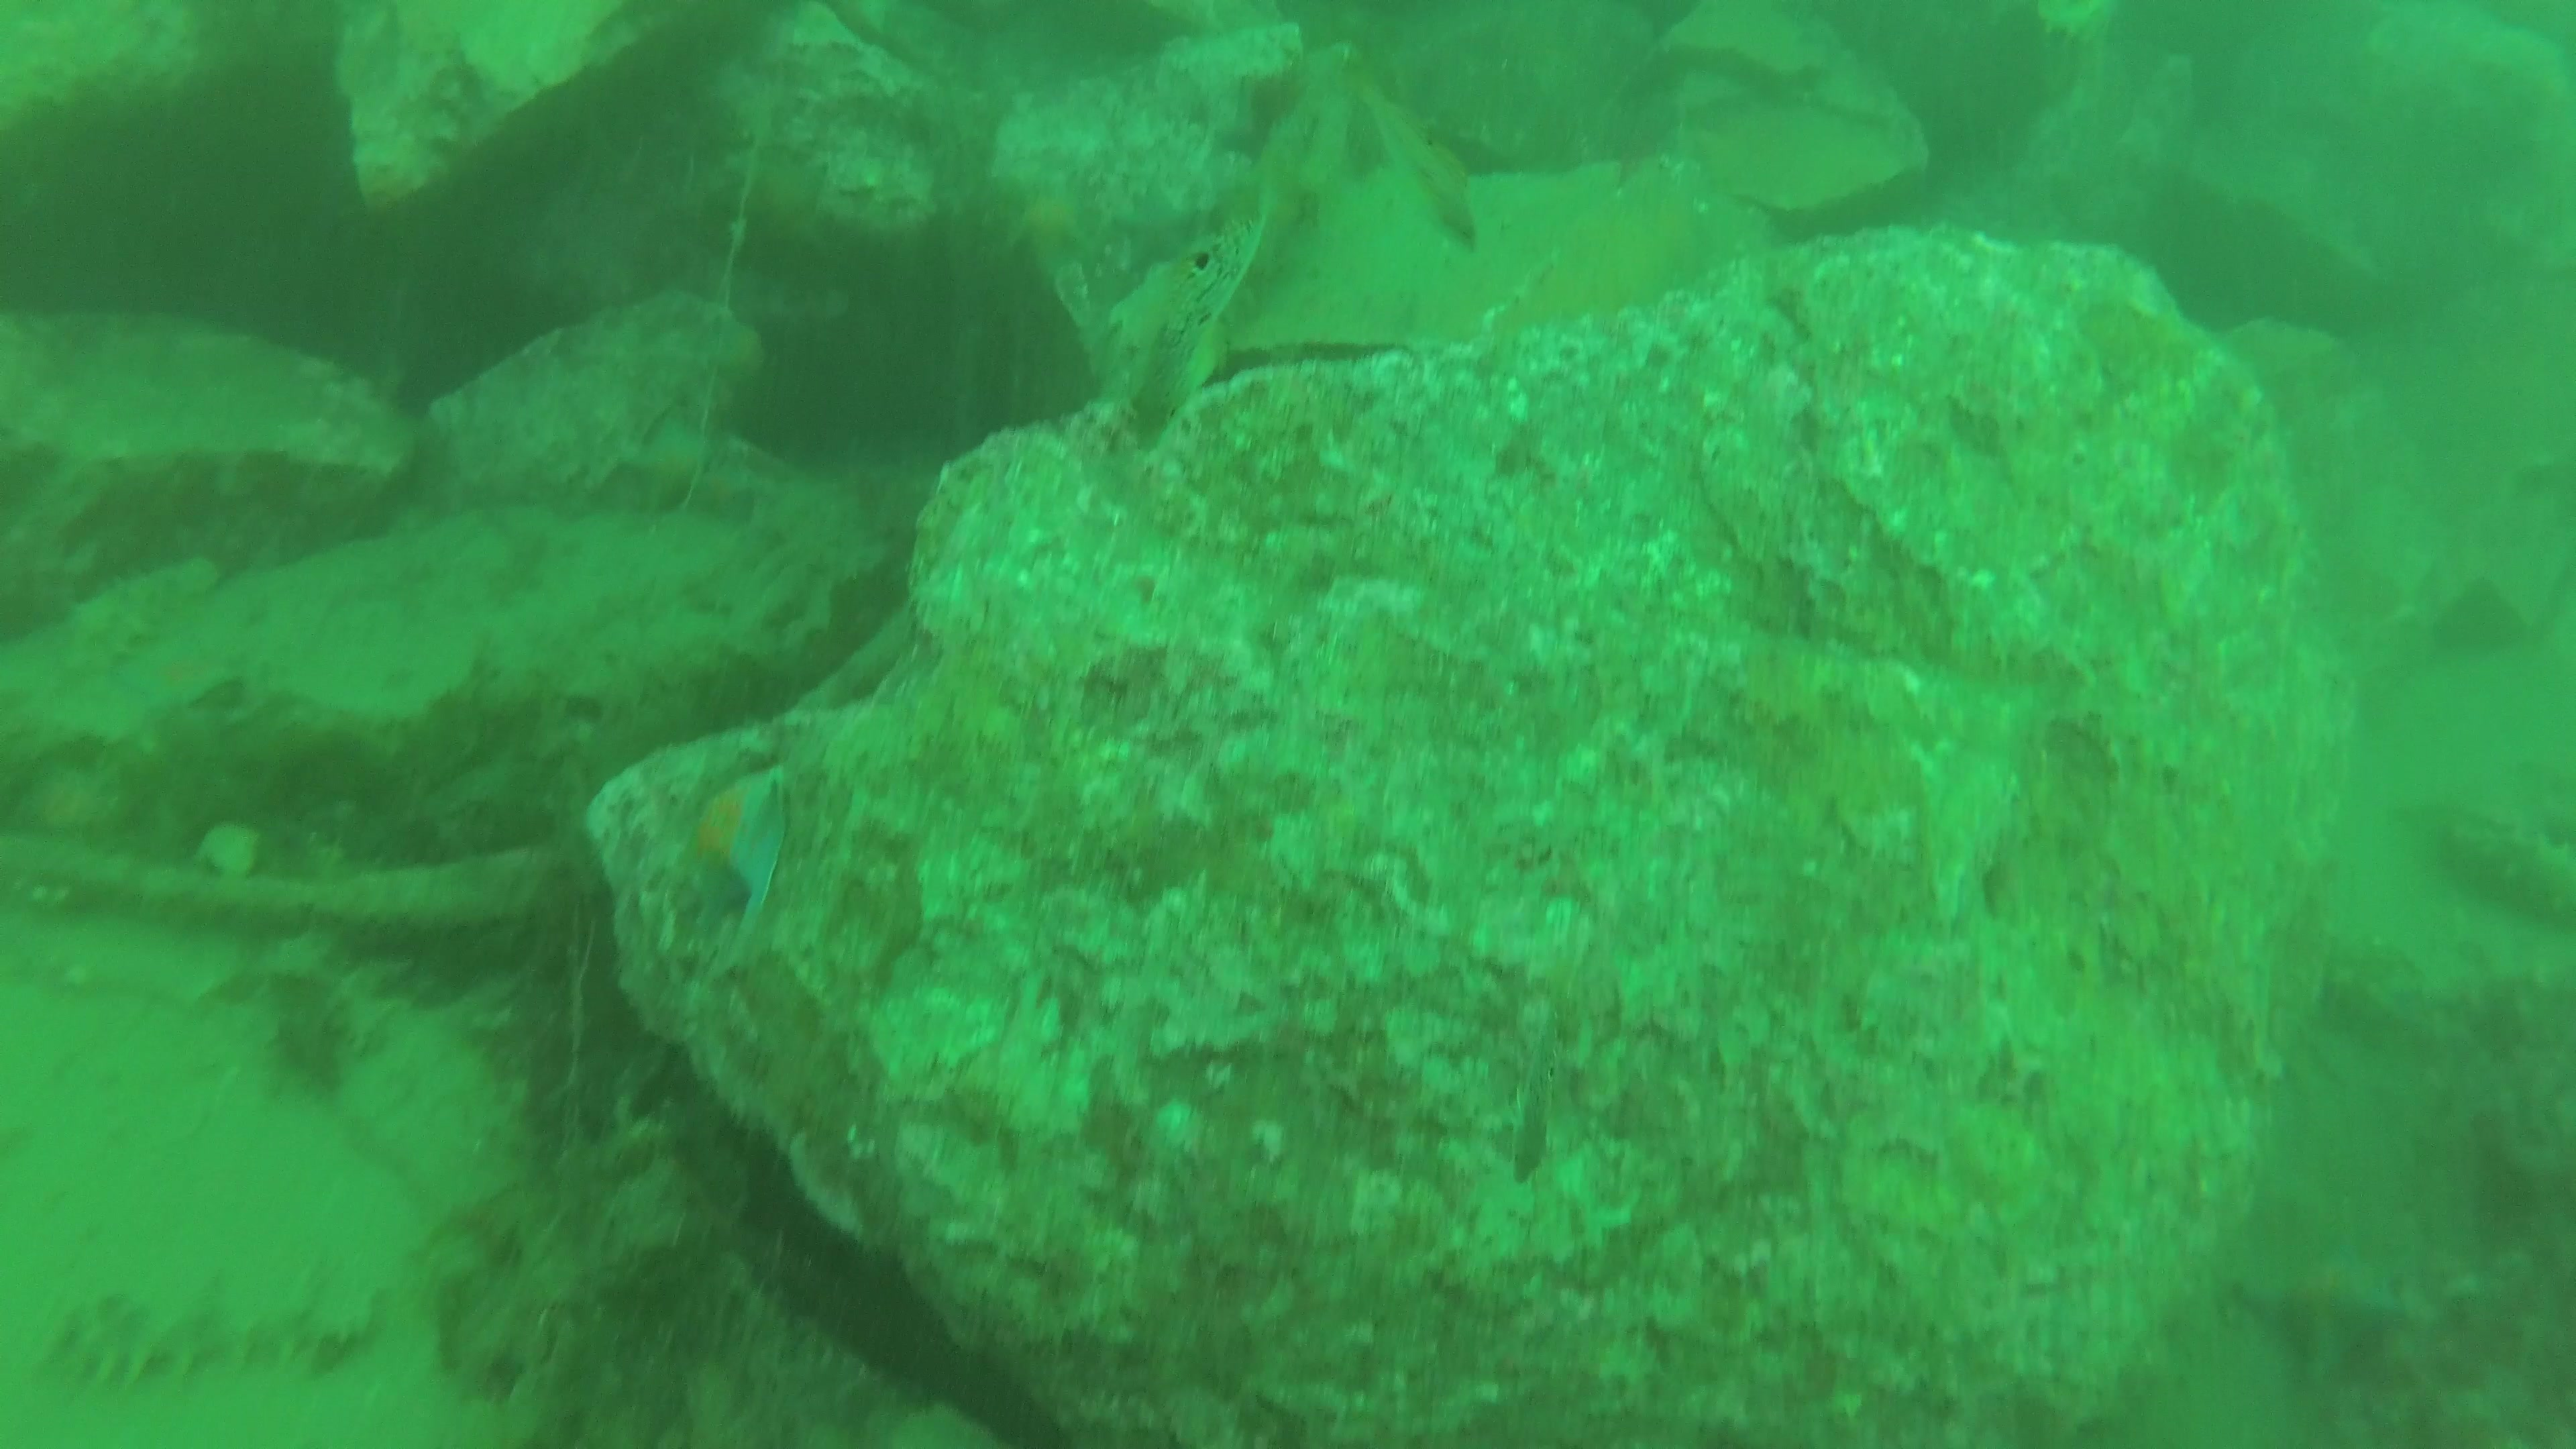holothurian: (39, 1269, 384, 1392), (55, 556, 219, 676), (2468, 821, 2576, 924)
starfish: (686, 759, 791, 938), (621, 412, 720, 522)
